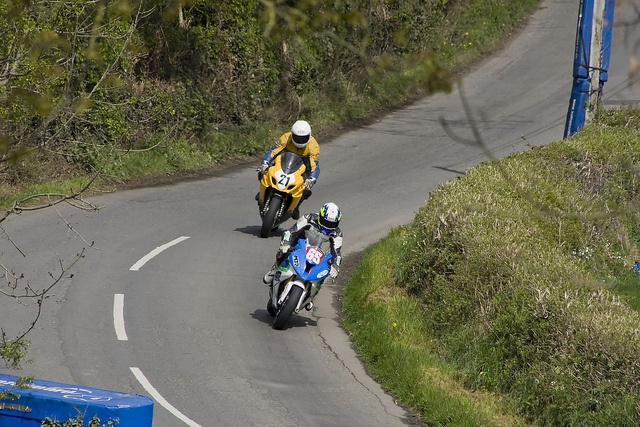non-vehicle: (265, 227, 335, 332), (256, 150, 308, 240)
